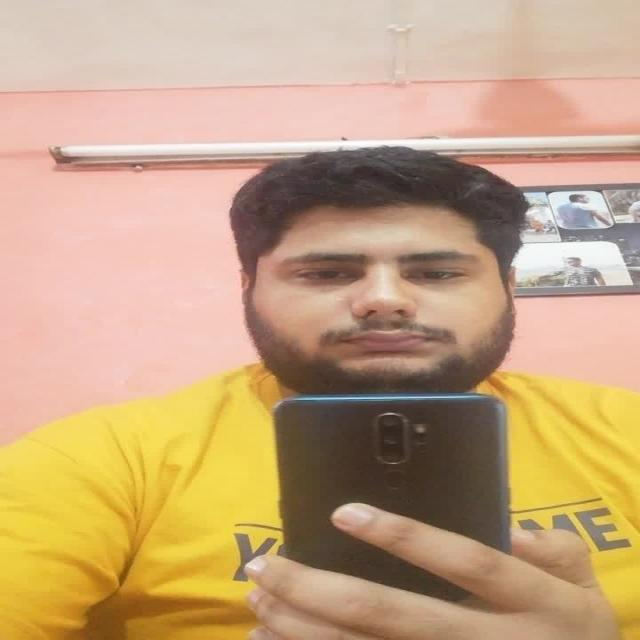Phone: (268, 394, 517, 558)
